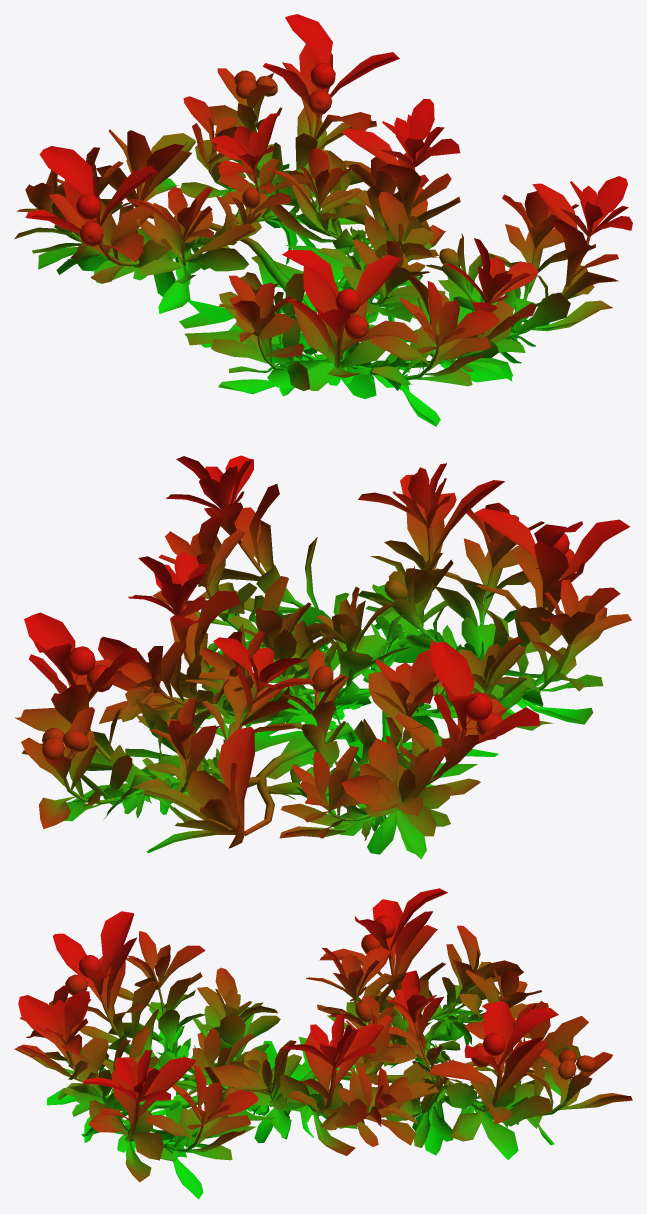
The model's file is Alpine Bearberry_LOD2_Var6_xb0gdazqx.fbx.
3 renders of one model, top to bottom at view 1: azimuth 30°, elevation 25°; view 2: azimuth 150°, elevation 25°; view 3: azimuth 270°, elevation 25°, orthographic. The views are drawn at different scales.
Visible parts, largest first — view 1: _ac3y_Var6_LOD2; view 2: _ac3y_Var6_LOD2; view 3: _ac3y_Var6_LOD2.
Part boxes in pixels (bbox=[...]): _ac3y_Var6_LOD2: bbox=[14, 14, 632, 426]; _ac3y_Var6_LOD2: bbox=[14, 455, 631, 859]; _ac3y_Var6_LOD2: bbox=[14, 888, 632, 1199].
Bounding box in the file's own units: 37.3 × 14.22 × 48.09.
